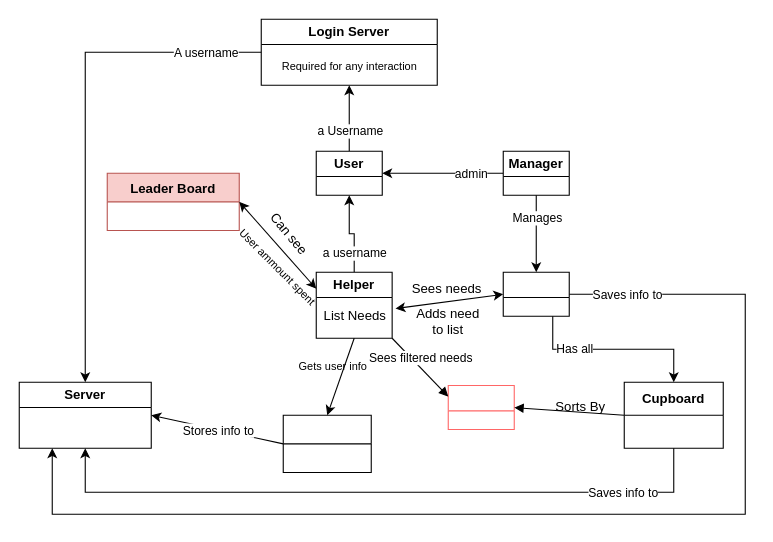
This 773x542 diagram has some shape labels left out. The centre of each missing label's shape, as x and y in pixels:
Filter: the point at 480,407
Needs: the point at 535,293
Users DAO: the point at 326,443
